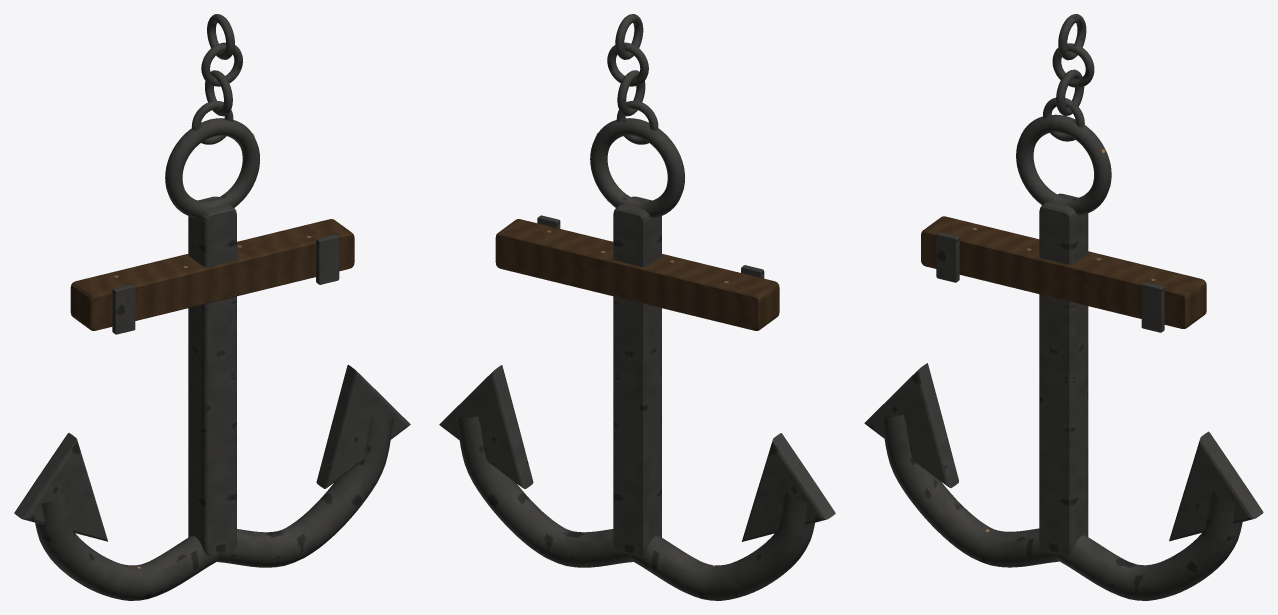
3 renders of one model, left to right at view 1: azimuth 30°, elevation 25°; view 2: azimuth 150°, elevation 25°; view 3: azimuth 330°, elevation 25°, orthographic.
Parts seen in each view (by area): view 1: forged iron, heartwood; view 2: forged iron, heartwood; view 3: forged iron, heartwood.
Boxes of the visible parts, <box> form: forged iron: <box>14,14,410,600</box>; heartwood: <box>70,219,354,330</box>; forged iron: <box>439,14,835,600</box>; heartwood: <box>495,219,779,330</box>; forged iron: <box>864,14,1263,600</box>; heartwood: <box>921,216,1206,328</box>.
Size of the model in its own units: 0.8021 by 1.11 by 0.095.
4 materials, 2 textured.
